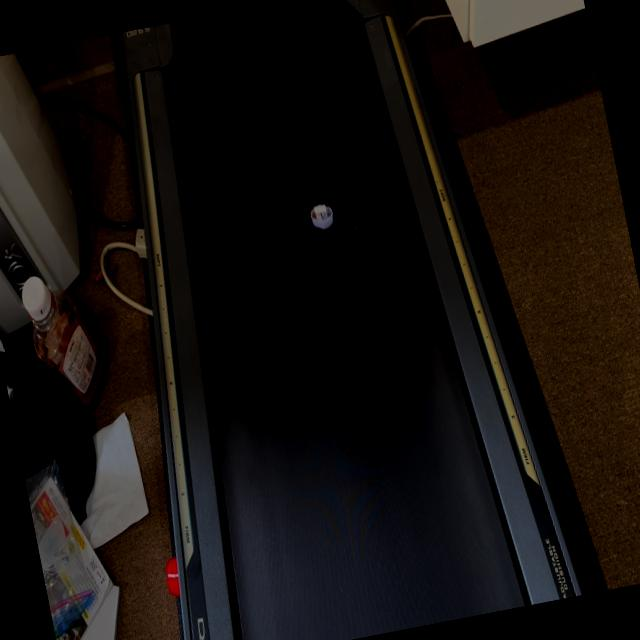Trash: (300, 177, 346, 247)
